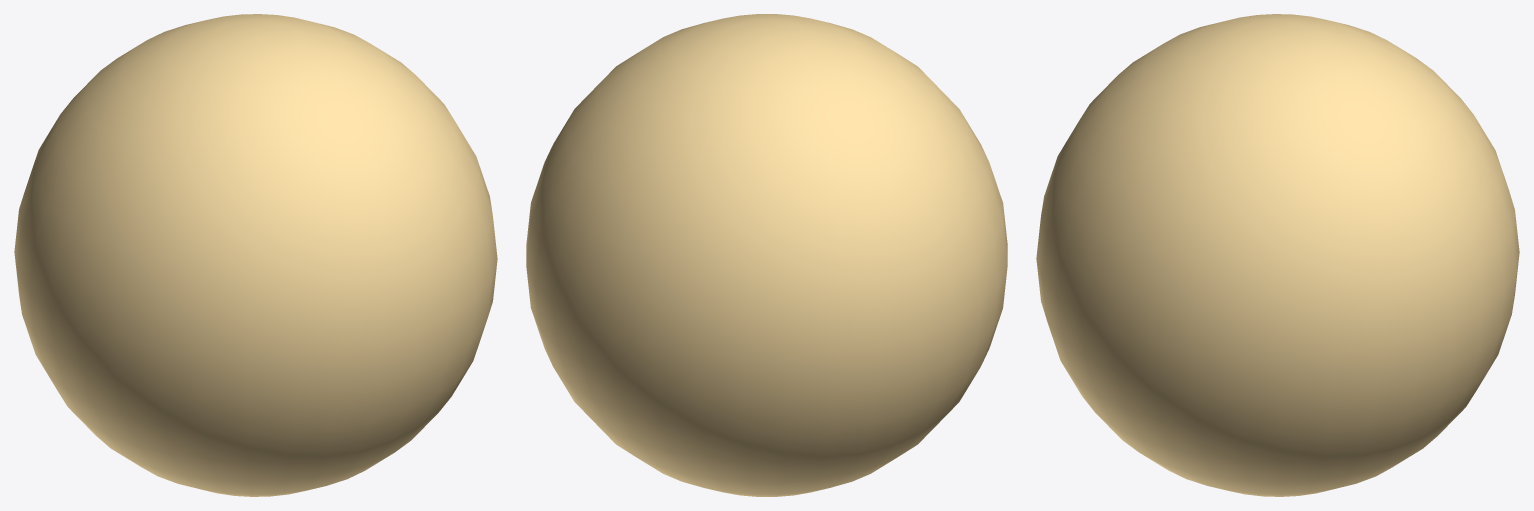
3 renders of one model, left to right at view 1: azimuth 30°, elevation 25°; view 2: azimuth 150°, elevation 25°; view 3: azimuth 270°, elevation 25°, orthographic.
Parts seen in each view (by area): view 1: PE_Luciernaga_cabeza_001_geo; view 2: PE_Luciernaga_cabeza_001_geo; view 3: PE_Luciernaga_cabeza_001_geo.
Boxes of the visible parts, left/top/right/bottom form: PE_Luciernaga_cabeza_001_geo: left=14, top=14, right=497, bottom=496; PE_Luciernaga_cabeza_001_geo: left=526, top=14, right=1007, bottom=496; PE_Luciernaga_cabeza_001_geo: left=1036, top=14, right=1519, bottom=496.
Bounding box in the file's own units: 0.0687 × 0.0687 × 0.0687.
